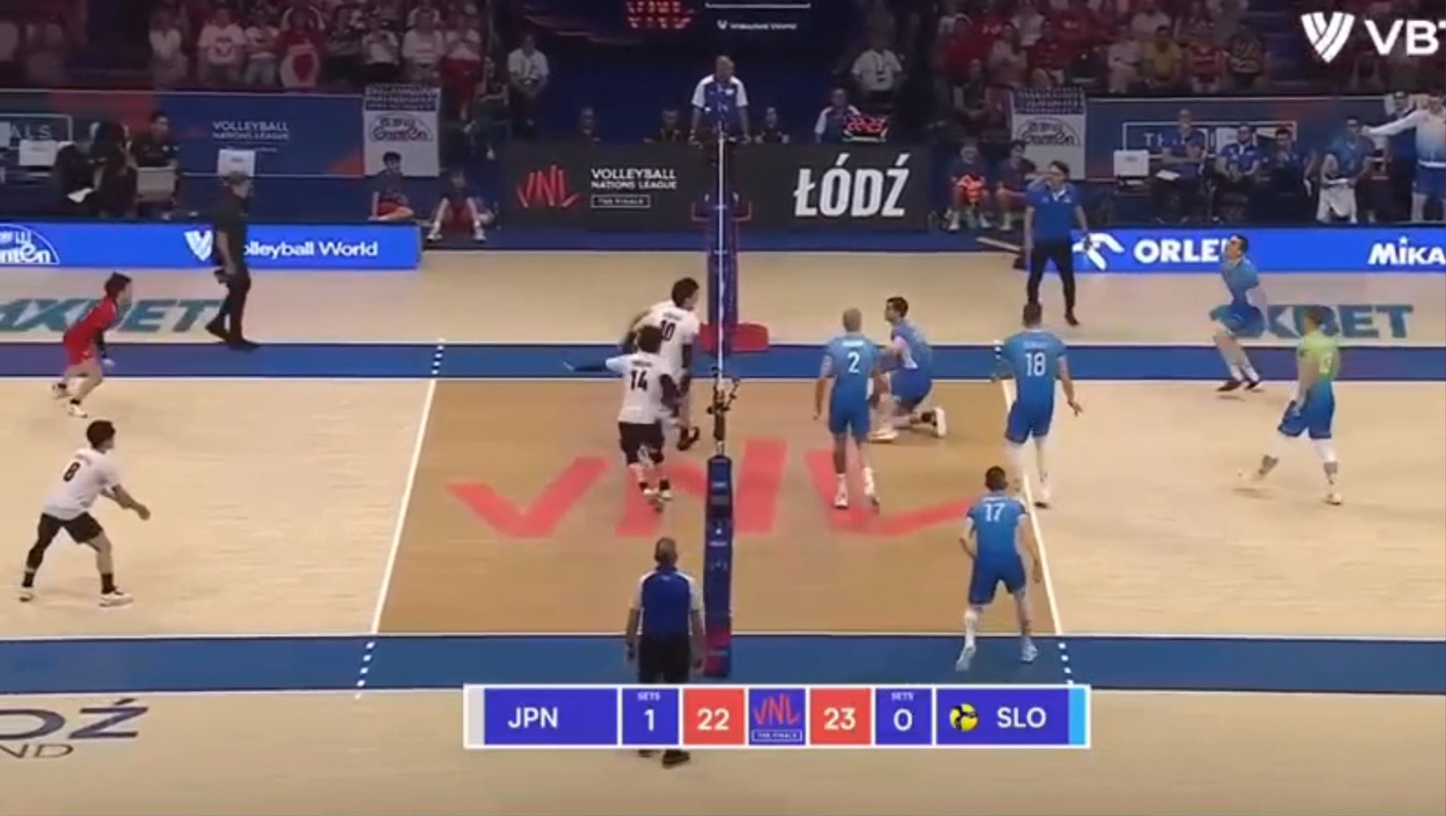player: (996, 302, 1082, 507), (956, 466, 1041, 670), (814, 308, 885, 509), (1276, 307, 1341, 505), (870, 296, 947, 441), (1215, 234, 1266, 392), (1251, 448, 1279, 484)
player 1: (19, 420, 150, 604), (576, 326, 678, 466), (632, 277, 701, 450), (52, 272, 131, 417)
referee: (625, 537, 702, 684), (1023, 161, 1088, 326), (689, 56, 749, 220), (206, 174, 255, 350)
